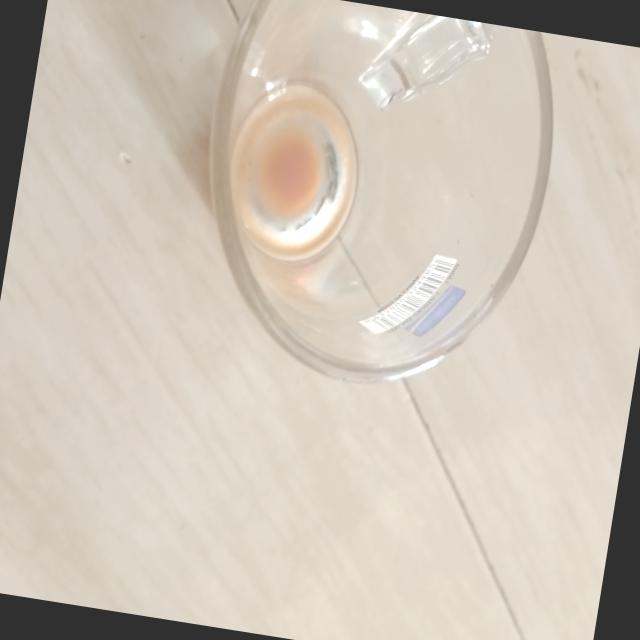glass-VX4N: (171, 0, 572, 410)
